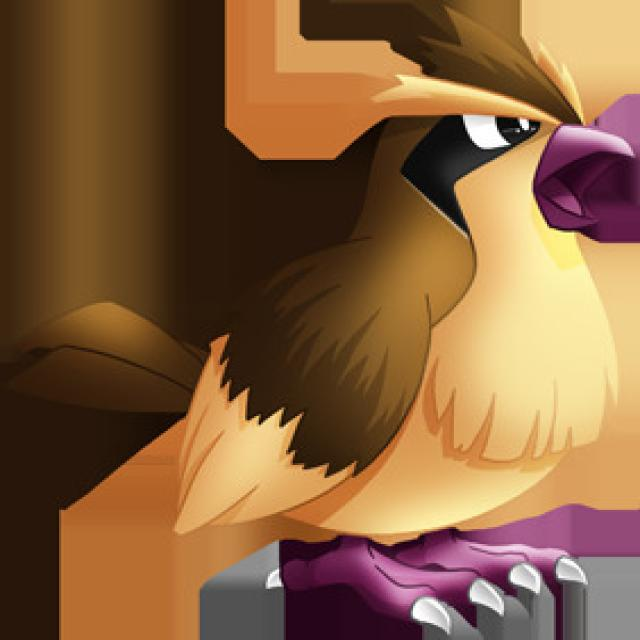Pidgey: (178, 89, 610, 617)
